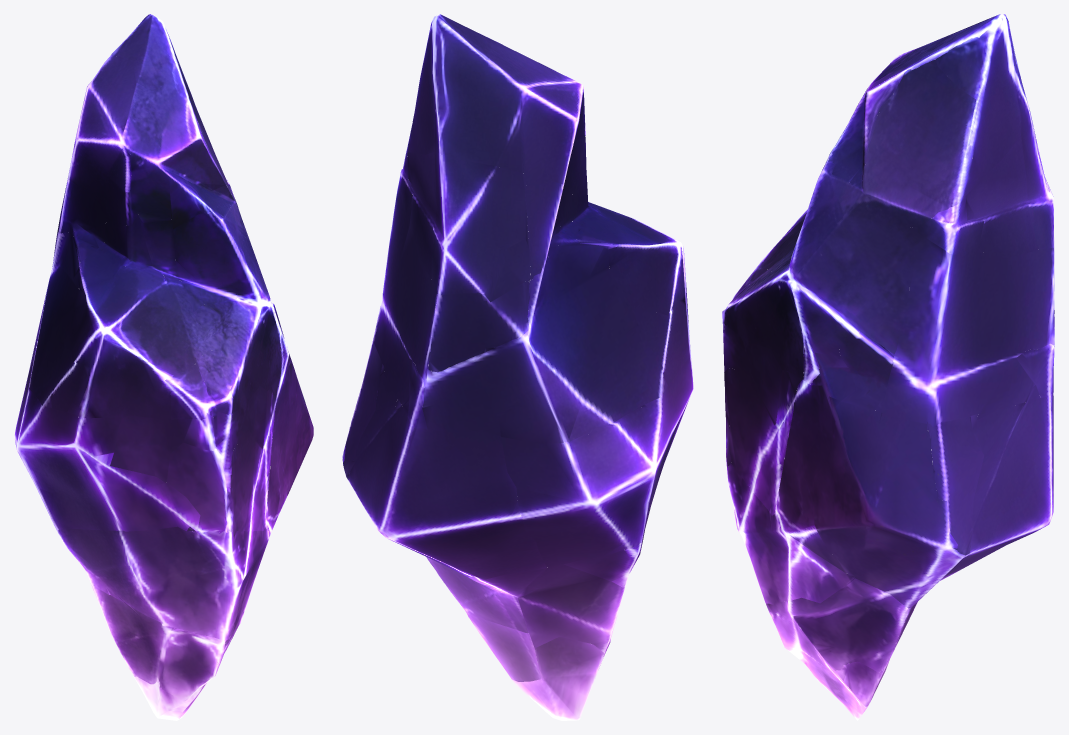
Rendered from purple_gem_low_poly.glb.
3 renders of one model, left to right at view 1: azimuth 30°, elevation 25°; view 2: azimuth 150°, elevation 25°; view 3: azimuth 270°, elevation 25°, orthographic. The views are drawn at different scales.
Visible parts, largest first — view 1: tripo_node_f01f3137-94c7-4024-b511-8f30a726f54b; view 2: tripo_node_f01f3137-94c7-4024-b511-8f30a726f54b; view 3: tripo_node_f01f3137-94c7-4024-b511-8f30a726f54b.
Part boxes in pixels (box(x1,y1,x2,y2)): tripo_node_f01f3137-94c7-4024-b511-8f30a726f54b: box(14, 14, 313, 720); tripo_node_f01f3137-94c7-4024-b511-8f30a726f54b: box(342, 14, 693, 720); tripo_node_f01f3137-94c7-4024-b511-8f30a726f54b: box(722, 14, 1054, 720).
Size of the model in its own units: 0.4227 by 0.9783 by 0.4058.
1 material, 1 textured.
